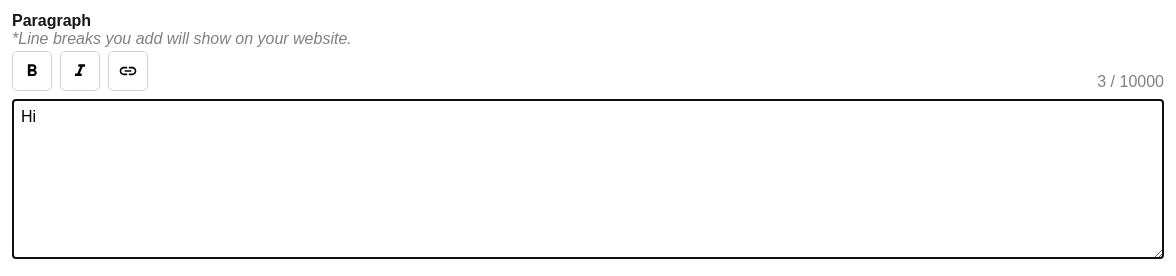
Test: ParagraphField formatting › removes an empty pair of markers on a second click
Click the button named "Bold text in paragraph 1" at [32, 71], box [12,51,52,91]
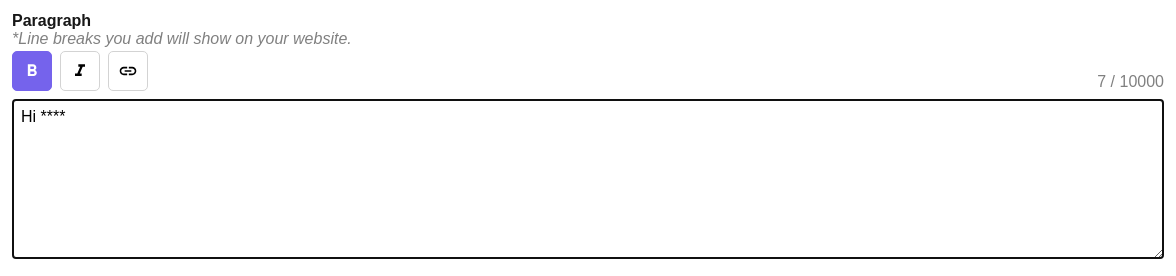
Click the button named "Bold text in paragraph 1" at [32, 71], box [12,51,52,91]
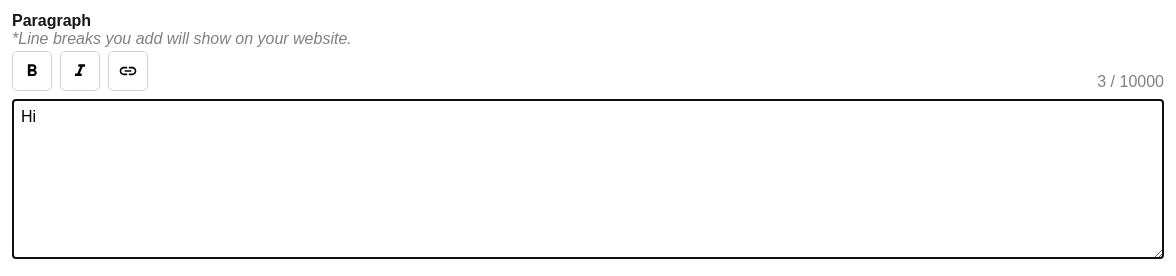
Now the text box labelled "Paragraph" holds "Hi ", box [12,99,1164,259]
